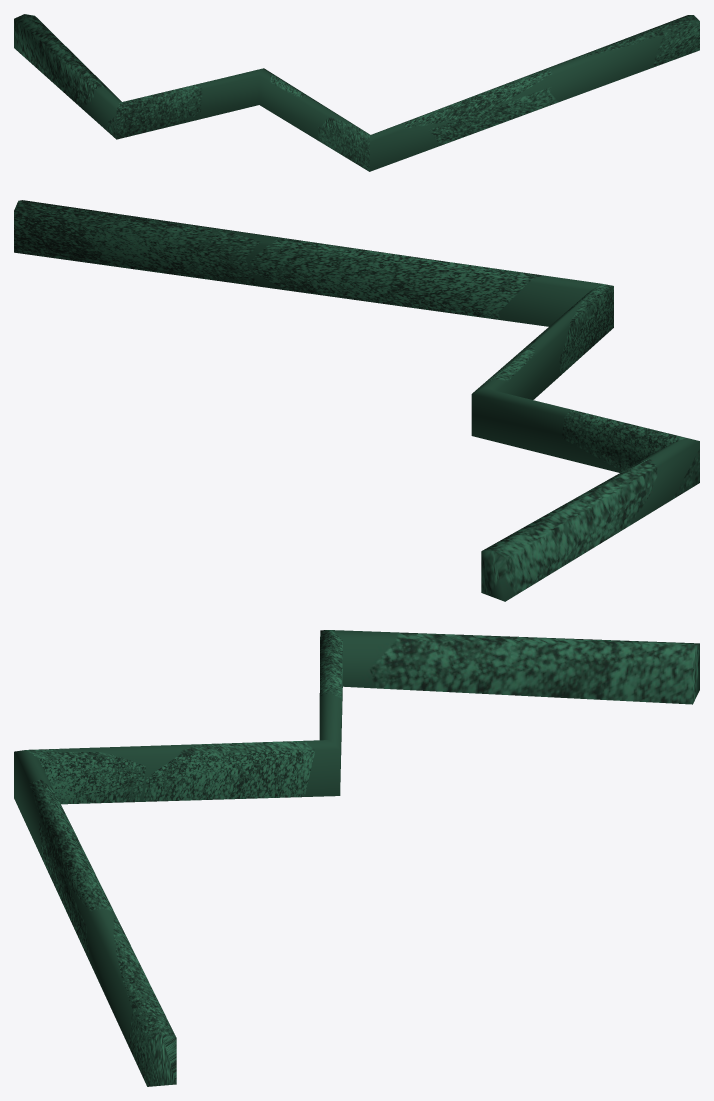
The model's file is Ring4W7.fbx.
3 renders of one model, top to bottom at view 1: azimuth 30°, elevation 25°; view 2: azimuth 150°, elevation 25°; view 3: azimuth 270°, elevation 25°, orthographic. The views are drawn at different scales.
Parts seen in each view (by area): view 1: Ring4W7; view 2: Ring4W7; view 3: Ring4W7.
Part boxes in pixels (x1,y1,x2,y2): Ring4W7: (14, 14, 699, 171); Ring4W7: (14, 200, 699, 601); Ring4W7: (14, 630, 699, 1086).
Bounding box in the file's own units: 6806 × 400 × 4810.
